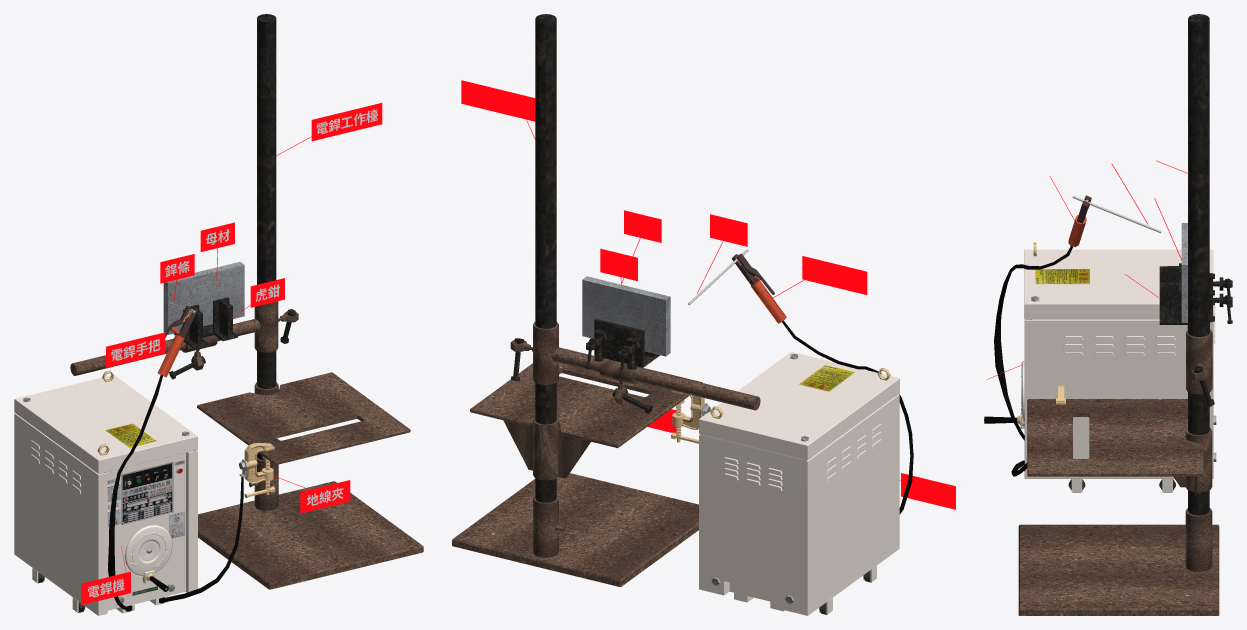
The model's file is ar_all.gltf.
3 renders of one model, left to right at view 1: azimuth 30°, elevation 25°; view 2: azimuth 150°, elevation 25°; view 3: azimuth 270°, elevation 25°, orthographic. The views are drawn at different scales.
Parts seen in each view (by area): view 1: pCube72.001, pCube7, polySurface1.001, pCube61, pCylinder1, pCube73.001, pCube10, pCylinder3, pCube59.001, 平面.007, 平面.006, pCylinder26 (+11 smaller); view 2: pCube72.001, pCube7, pCube61, polySurface1.001, pCylinder1, pCube73.001, pCylinder2.001, 平面.007, 平面.006, pCube59.001, pCylinder27, pCylinder28 (+9 smaller); view 3: pCube7, pCube72.001, polySurface1.001, pCube61, pCylinder1, pCylinder27, pCube59.001, pCylinder26, pCylinder78.001, pCylinder28, pPlane5.001, pCube73.001.
Boxes of the visible parts, left/top/right/bottom form: pCube72.001: left=14, top=413, right=197, bottom=615; pCube7: left=198, top=481, right=423, bottom=589; polySurface1.001: left=197, top=372, right=410, bottom=465; pCube61: left=14, top=375, right=197, bottom=473; pCylinder1: left=257, top=14, right=276, bottom=460; pCube73.001: left=163, top=262, right=244, bottom=334; pCube10: left=121, top=461, right=173, bottom=524; pCylinder3: left=124, top=525, right=172, bottom=576; pCube59.001: left=174, top=297, right=237, bottom=348; 平面.007: left=311, top=103, right=382, bottom=141; 平面.006: left=106, top=332, right=165, bottom=367; pCylinder26: left=254, top=301, right=278, bottom=352; pCube72.001: left=699, top=394, right=899, bottom=615; pCube7: left=452, top=473, right=698, bottom=586; pCube61: left=699, top=351, right=899, bottom=460; polySurface1.001: left=470, top=347, right=702, bottom=448; pCylinder1: left=535, top=14, right=556, bottom=502; pCube73.001: left=582, top=276, right=670, bottom=356; pCylinder2.001: left=551, top=348, right=760, bottom=410; 平面.007: left=461, top=80, right=535, bottom=121; 平面.006: left=802, top=256, right=867, bottom=294; pCube59.001: left=594, top=318, right=660, bottom=367; pCylinder27: left=533, top=495, right=558, bottom=557; pCylinder28: left=533, top=417, right=558, bottom=480; pCube7: left=1018, top=524, right=1219, bottom=615; pCube72.001: left=1024, top=319, right=1213, bottom=478; polySurface1.001: left=1027, top=399, right=1203, bottom=476; pCube61: left=1024, top=249, right=1213, bottom=319; pCylinder1: left=1188, top=14, right=1209, bottom=515; pCylinder27: left=1185, top=508, right=1212, bottom=571; pCube59.001: left=1159, top=263, right=1187, bottom=324; pCylinder26: left=1186, top=329, right=1212, bottom=394; pCylinder78.001: left=994, top=246, right=1072, bottom=440; pCylinder28: left=1185, top=427, right=1212, bottom=492; pPlane5.001: left=1035, top=269, right=1089, bottom=284; pCube73.001: left=1181, top=223, right=1187, bottom=322.
Size of the model in its own units: 4.02 by 5.05 by 2.05.
16 materials, 1 textured.
